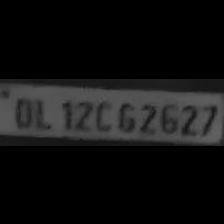1: (57, 95, 74, 131)
2: (68, 96, 92, 130), (176, 99, 198, 135), (135, 99, 157, 133)
6: (156, 100, 178, 134)
7: (196, 99, 218, 135)
C: (91, 97, 113, 131)
D: (9, 92, 37, 128)
G: (114, 98, 136, 132)
L: (31, 92, 53, 130)
